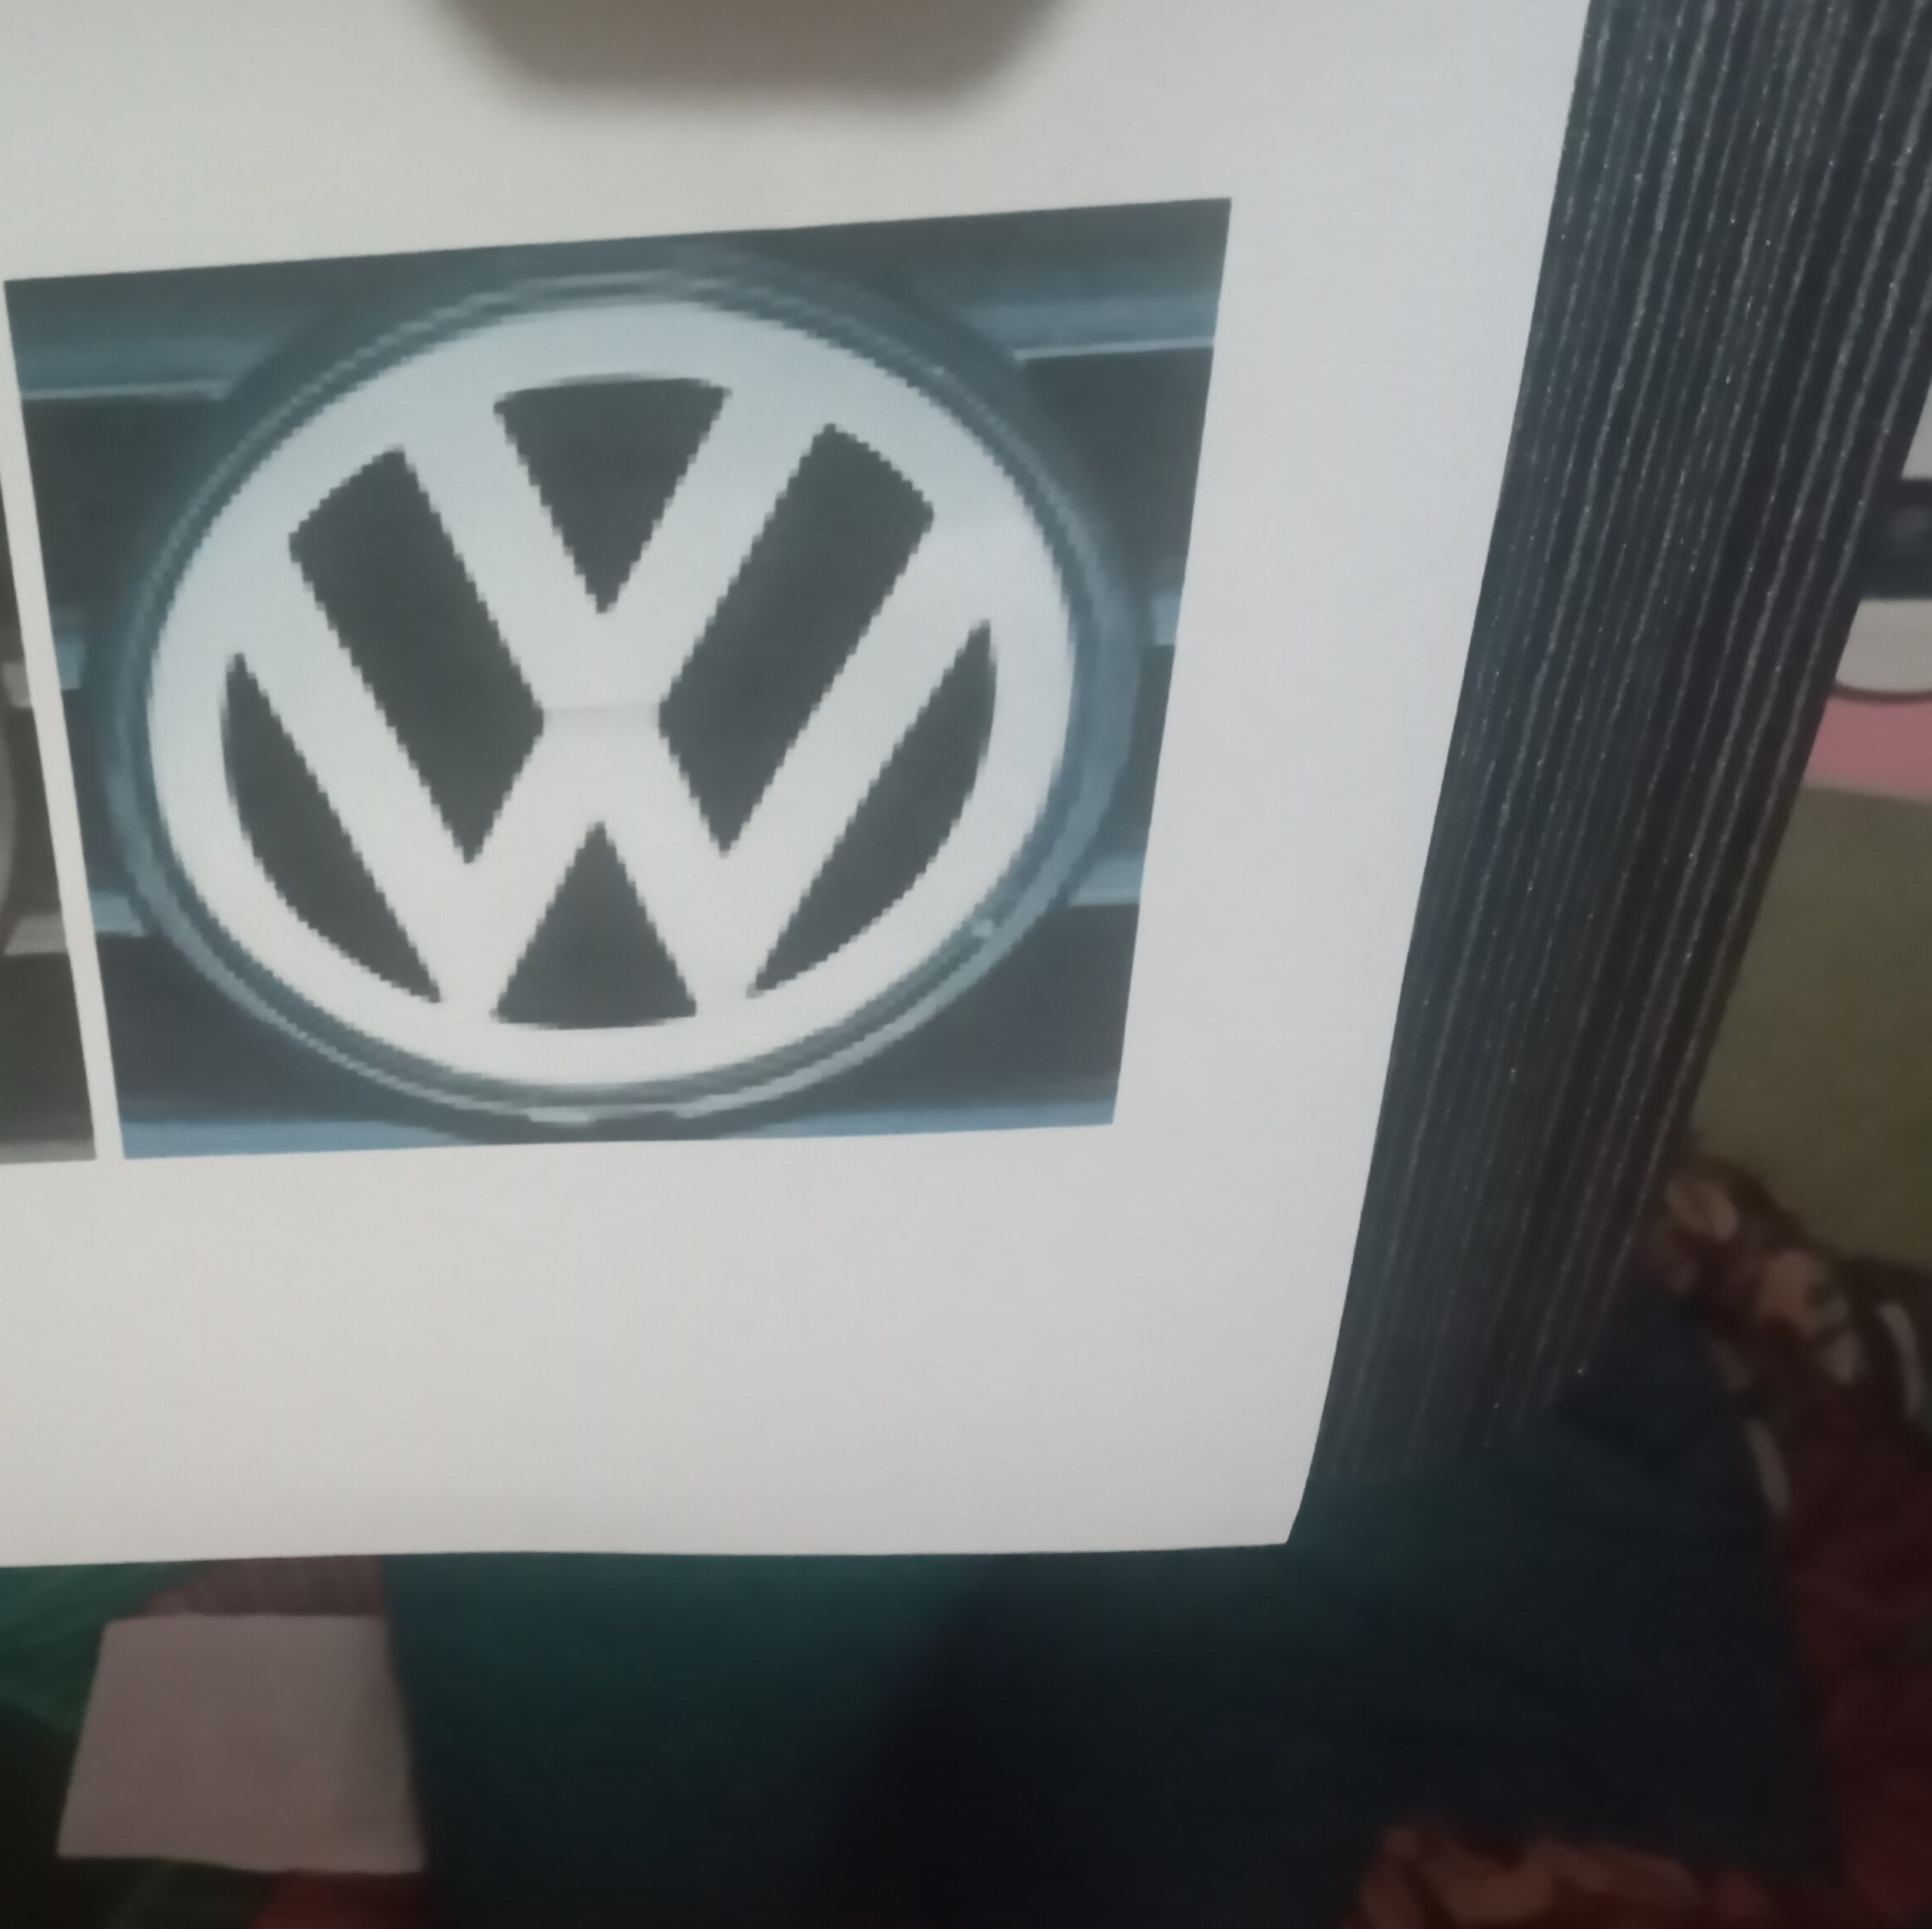Volkswagen: (72, 249, 1135, 1148)
